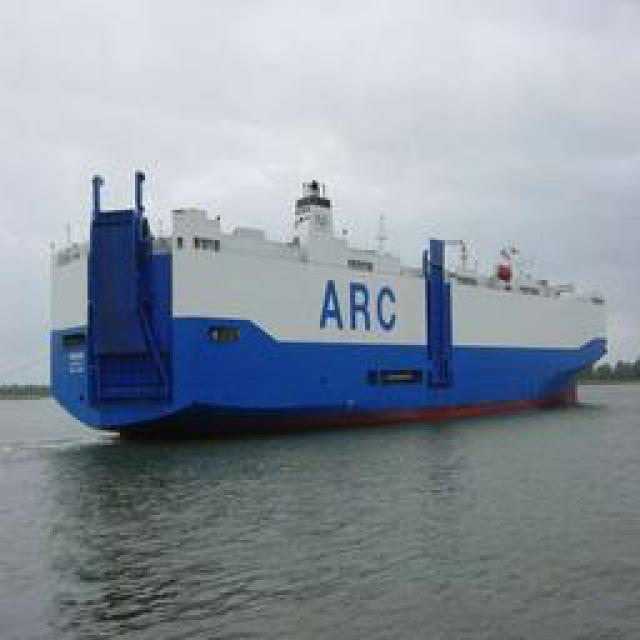Ship: (40, 160, 605, 443)
